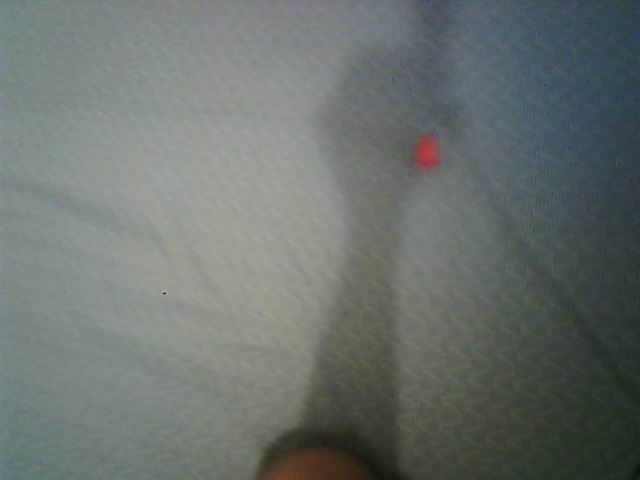lego: (414, 135, 442, 167)
